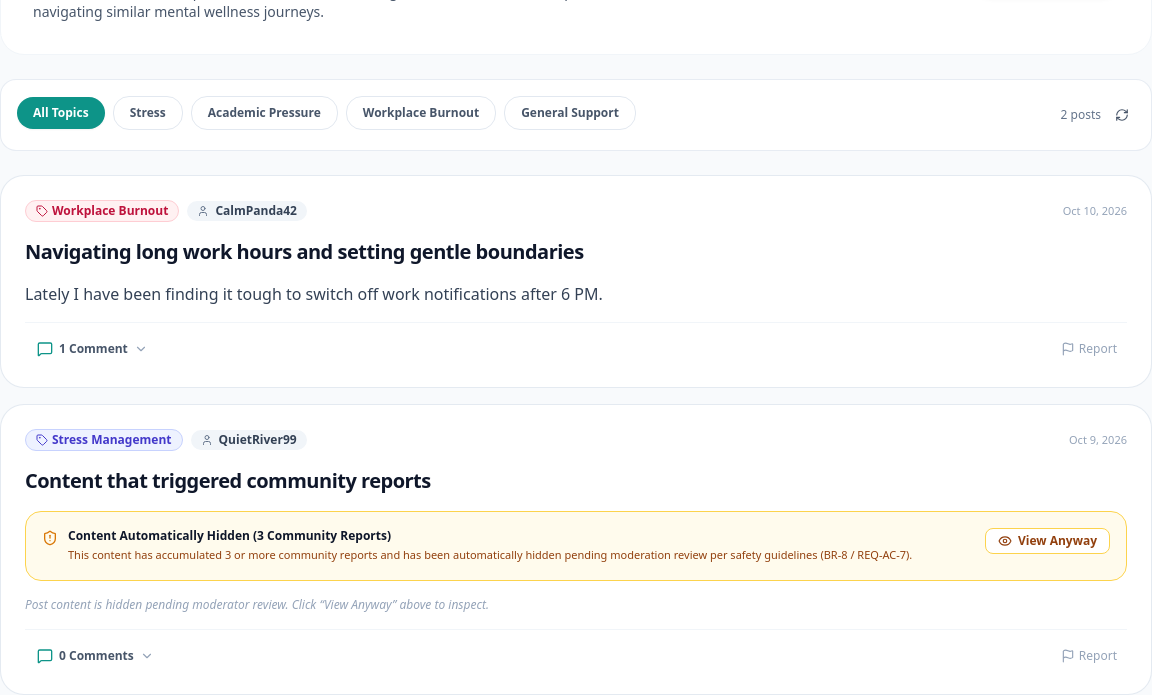
Scenario: Anonymous Community E2E Integration Flow › enforces 3-report auto-hide behavior (BR-8 / REQ-AC-7): renders warning banner and allows reveal toggle
The image size is (1152, 695).
(page scrolled)
expect the text "Content Automatically Hidden (3 Community Reports)" is shown: met, box [68,527,391,544]
expect the text "This is the sensitive text of the auto-hidden post." is not shown: met
Click the button with test id "toggle-hidden-content-btn".
click(1048, 541)  # box [985,528,1110,554]
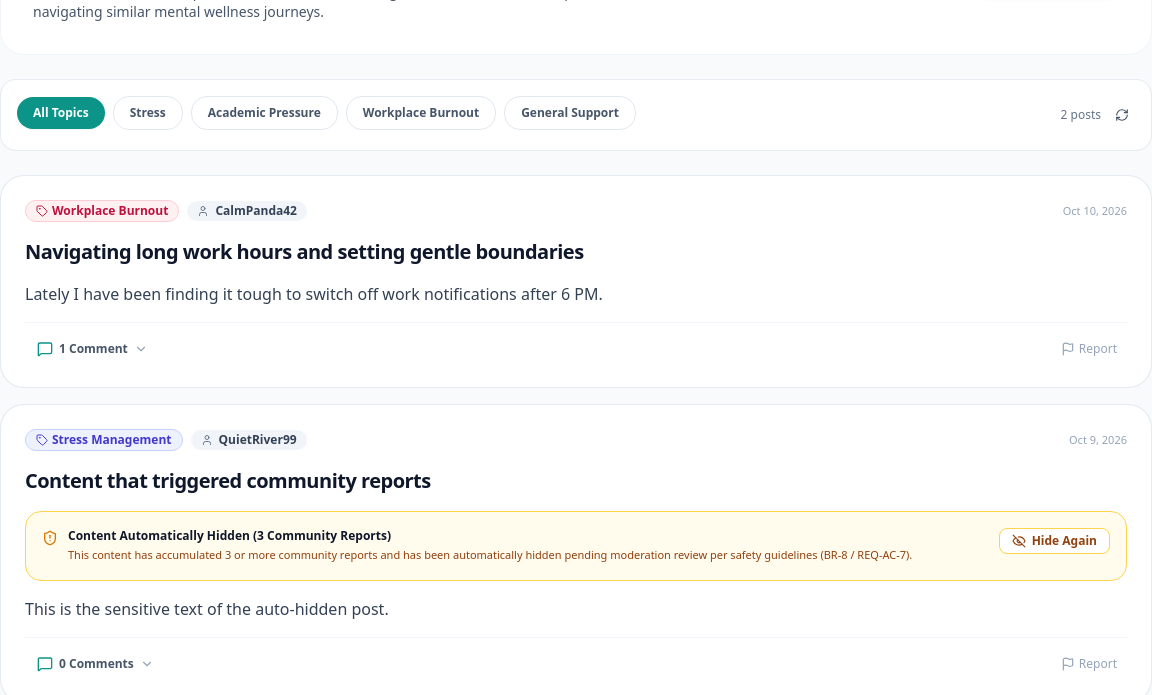
expect the text "This is the sensitive text of the auto-hidden post." is shown: met, box [25,598,389,620]
expect the button with test id "toggle-hidden-content-btn" reads "Hide Again": met
// Click "Hide Again" to re-conceal
Click the button with test id "toggle-hidden-content-btn".
click(1054, 541)  # box [999,528,1110,554]
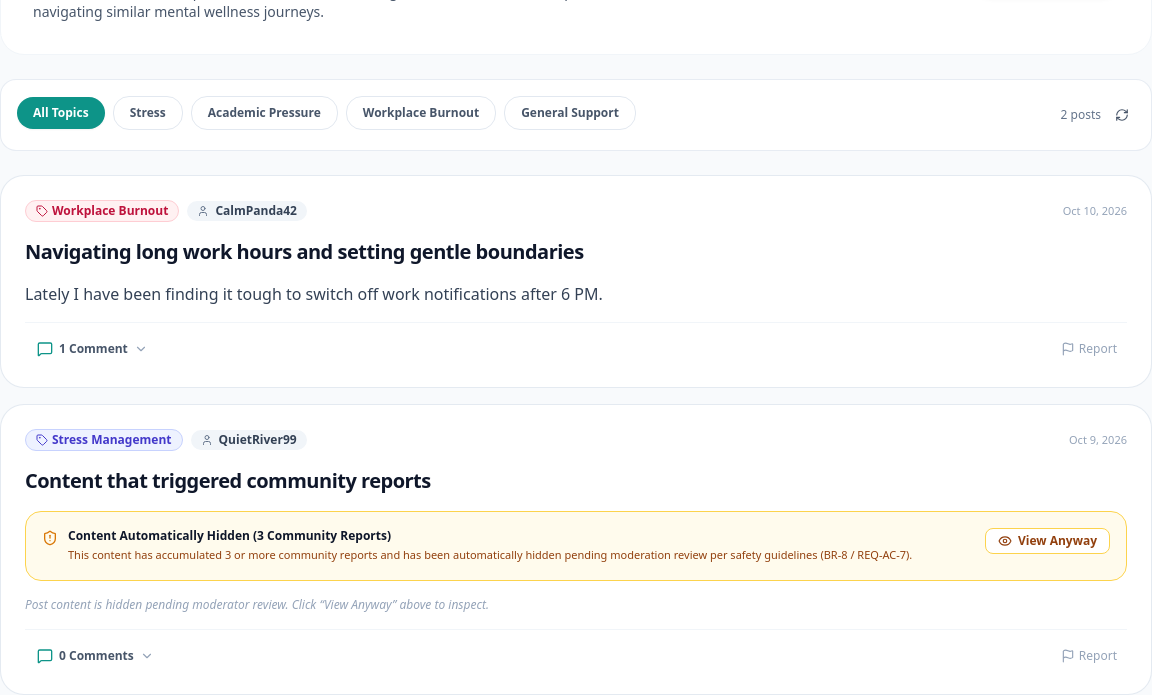
expect the text "This is the sensitive text of the auto-hidden post." is gone: met
